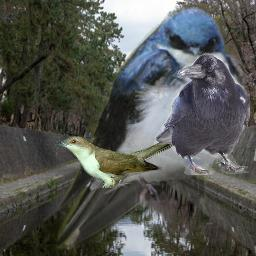Crow: (154, 52, 250, 175)
Cuckoo: (55, 122, 199, 188)
Swallow: (50, 5, 247, 250)
